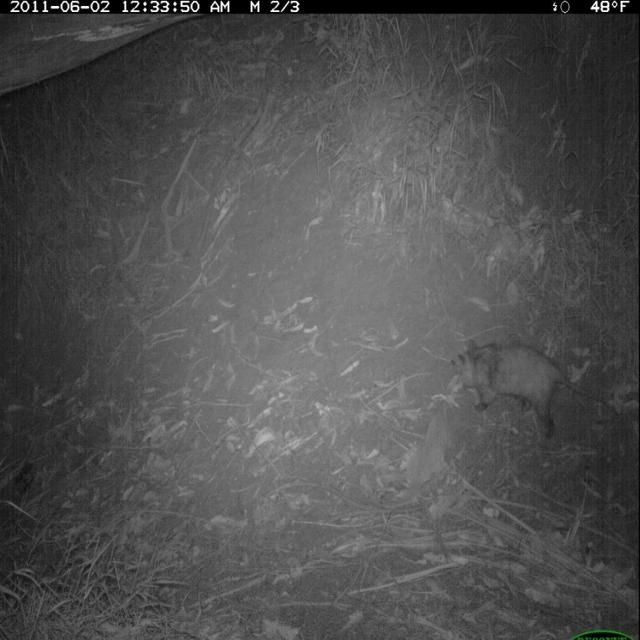opossum: (448, 329, 612, 440)
